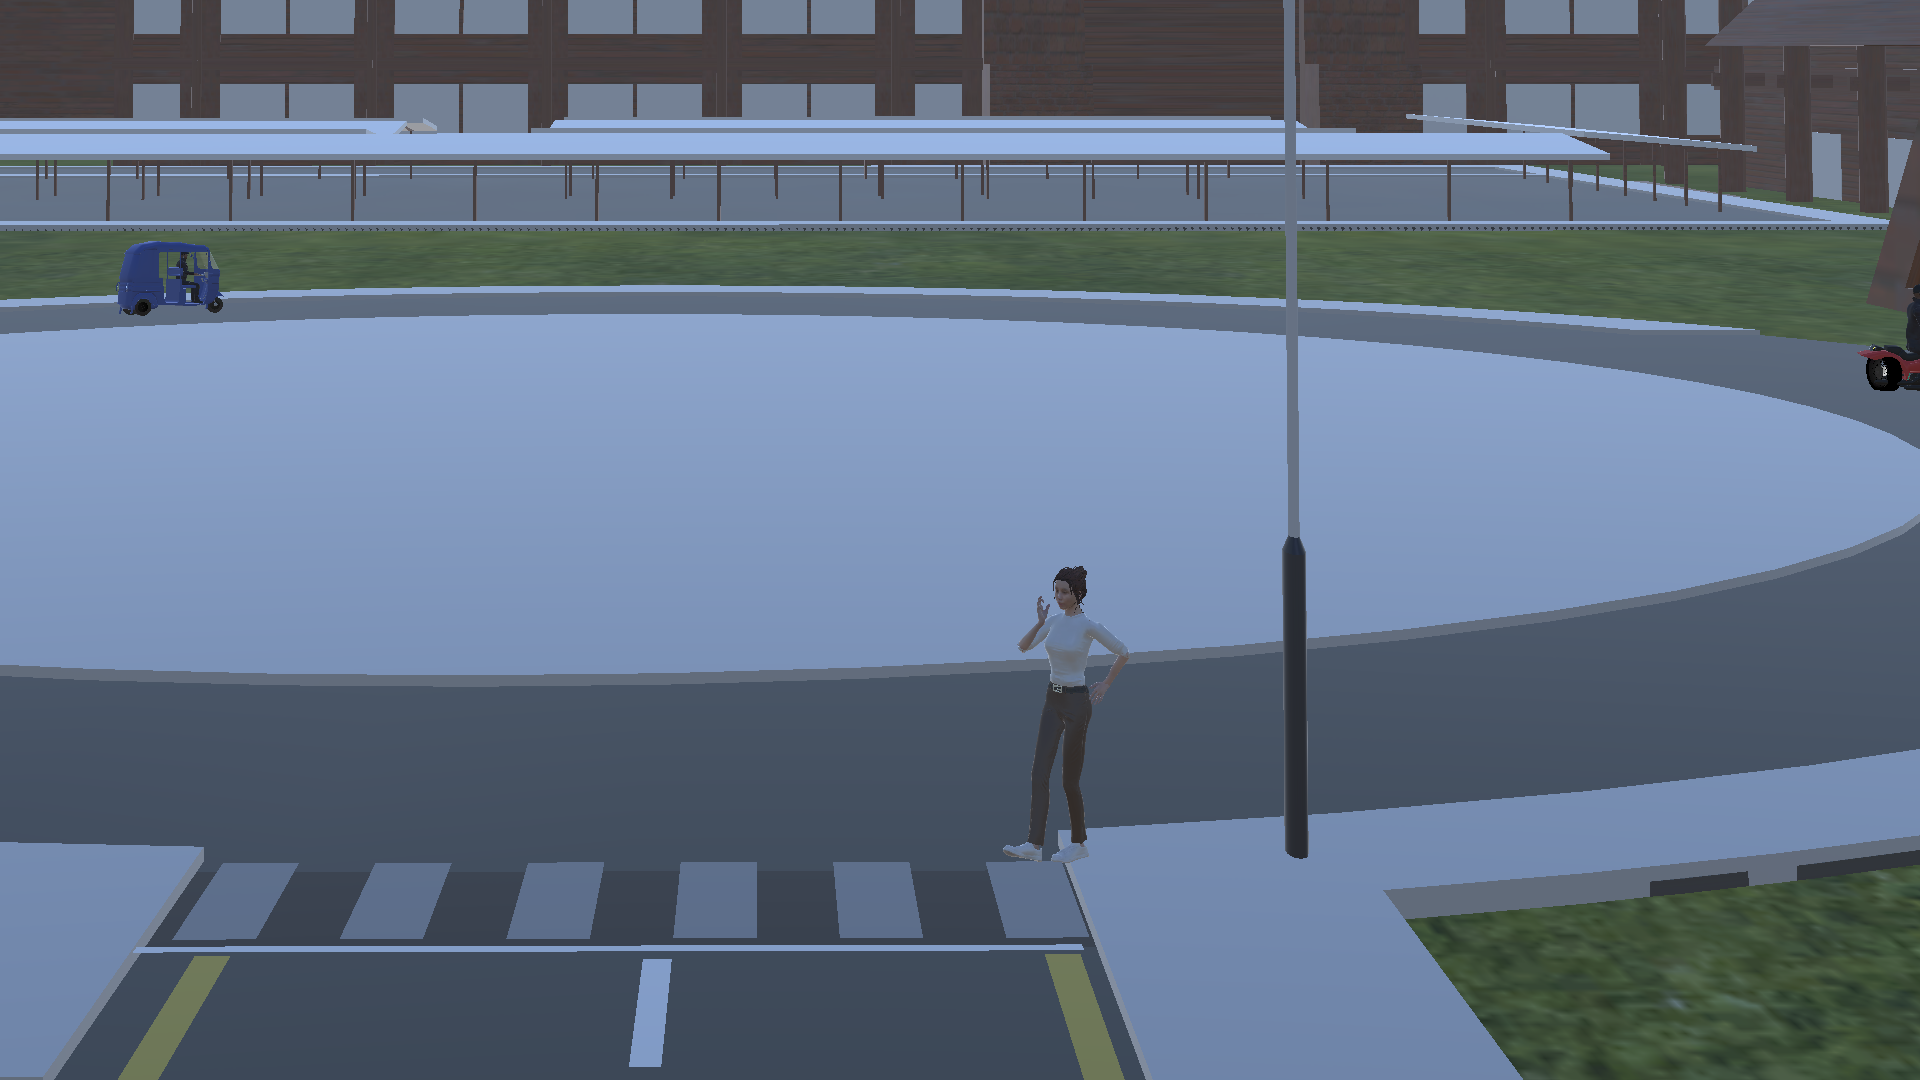pedestrian: (997, 558, 1135, 883)
